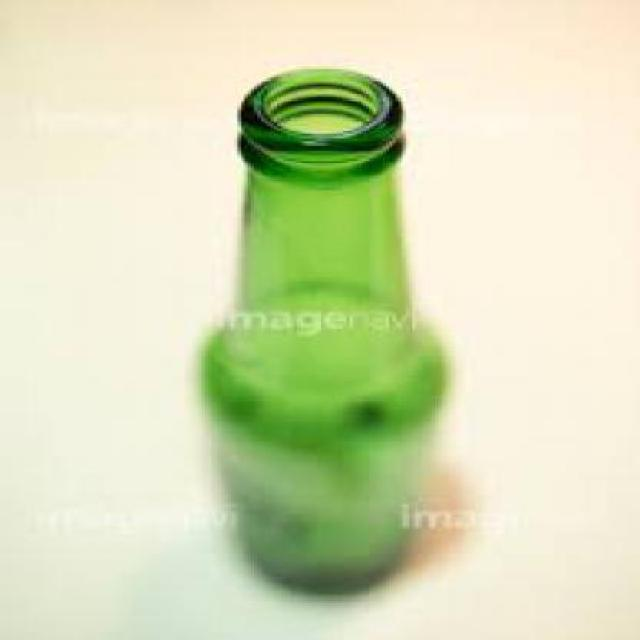glass: (199, 64, 446, 594)
